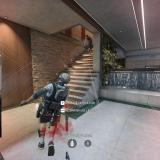Character: (19, 71, 72, 155), (86, 34, 94, 52)
Head: (58, 72, 71, 85), (86, 35, 88, 38)
